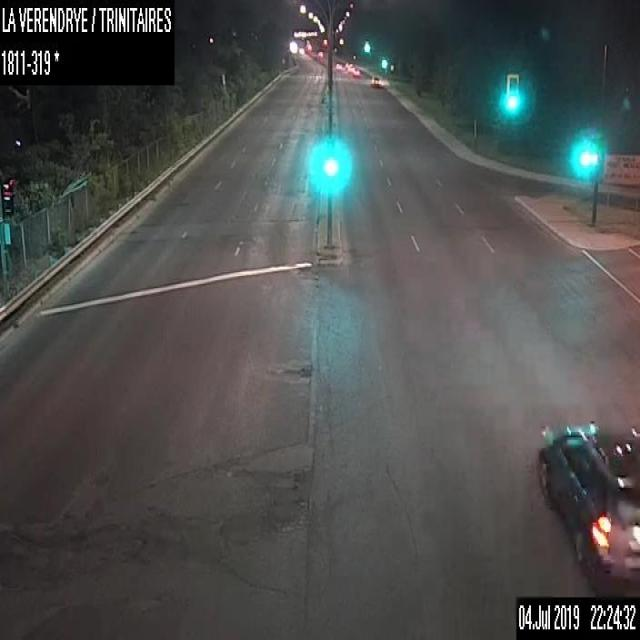vehicle: (535, 422, 639, 594), (370, 76, 378, 85), (352, 68, 359, 76), (347, 64, 354, 72), (344, 61, 352, 68), (335, 62, 341, 69)
